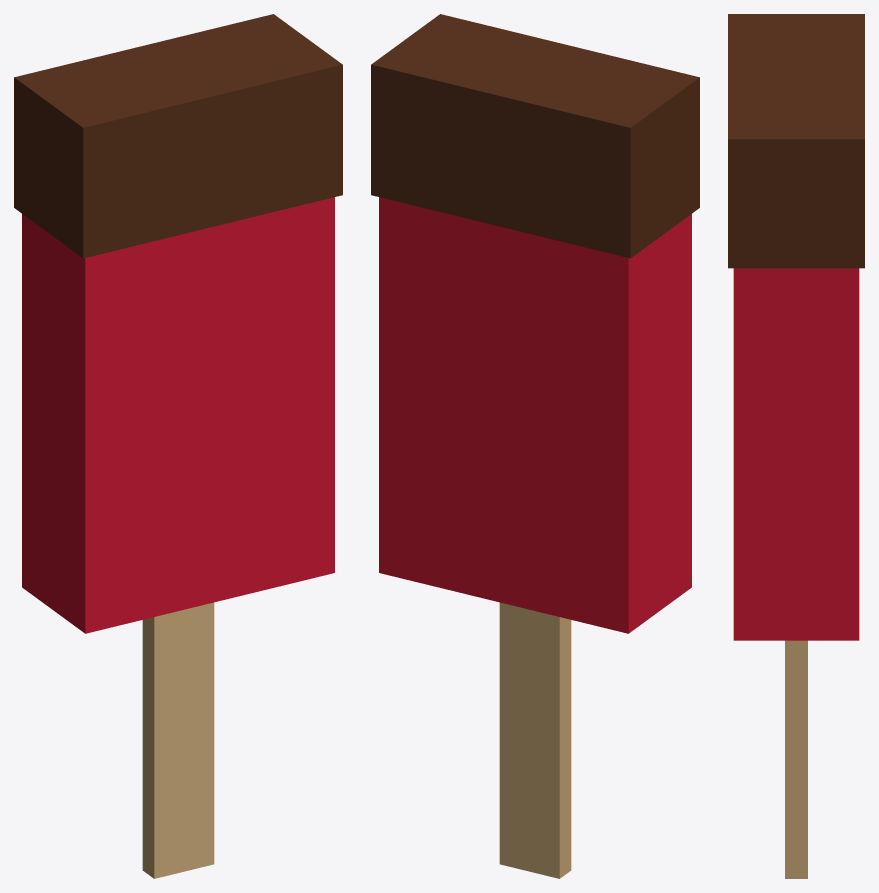
Rendered from popsicle.glb.
3 views of the same model, side by side, from view 1: azimuth 30°, elevation 25°; view 2: azimuth 150°, elevation 25°; view 3: azimuth 270°, elevation 25° (orthographic).
Parts seen in each view (by area): view 1: popsicle; view 2: popsicle; view 3: popsicle.
Boxes of the visible parts, x1,y1,x2,y2 form: popsicle: (14,14,342,878); popsicle: (371,14,699,878); popsicle: (728,14,864,878).
Bounding box in the file's own units: 0.052 × 0.1525 × 0.024.
